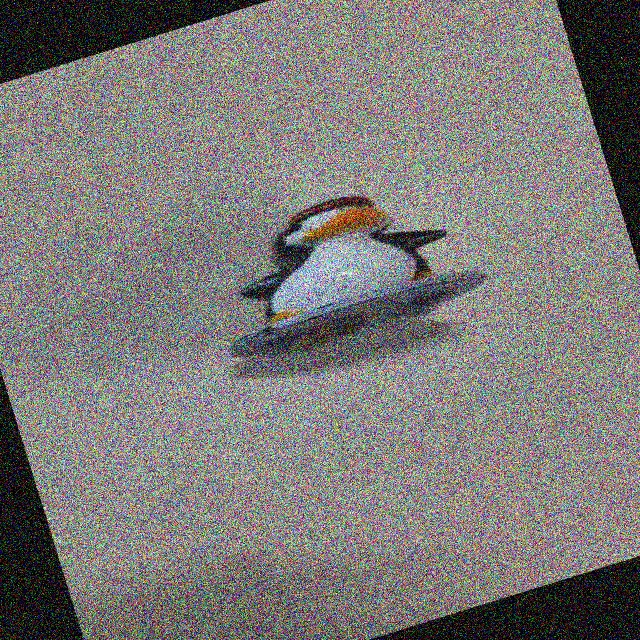Penguin: (205, 162, 481, 370)
